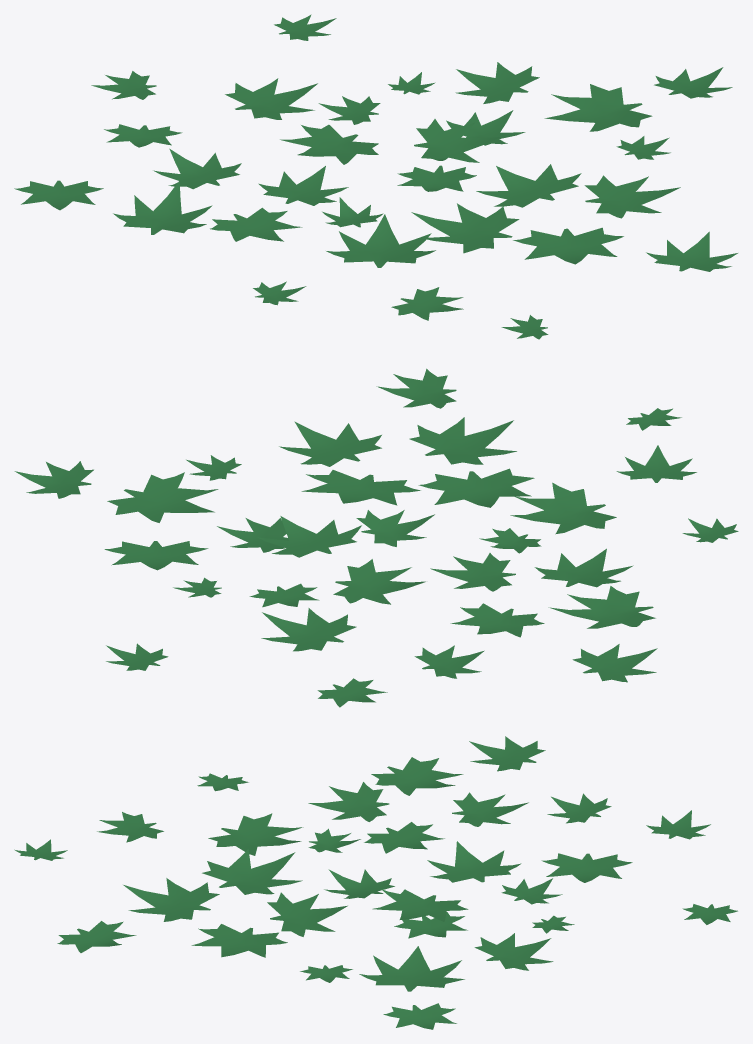
Rendered from leaves_ground_alangium_A.fbx.
3 views of the same model, one above another, from view 1: azimuth 30°, elevation 25°; view 2: azimuth 150°, elevation 25°; view 3: azimuth 270°, elevation 25° (orthographic). The views are drawn at different scales.
Parts seen in each view (by area): view 1: leaf_alangium_ground_A9, leaf_alangium_ground_A4, leaf_alangium_ground_A17, leaf_alangium_ground_A2, leaf_alangium_ground_A26, leaf_alangium_ground_A22, leaf_alangium_ground_A1, leaf_alangium_ground_A5, leaf_alangium_ground_A18, leaf_alangium_ground_A23, leaf_alangium_ground_A24, leaf_alangium_ground_A (+16 smaller); view 2: leaf_alangium_ground_A9, leaf_alangium_ground_A2, leaf_alangium_ground_A17, leaf_alangium_ground_A4, leaf_alangium_ground_A1, leaf_alangium_ground_A26, leaf_alangium_ground_A22, leaf_alangium_ground_A18, leaf_alangium_ground_A23, leaf_alangium_ground_A5, leaf_alangium_ground_A24, leaf_alangium_ground_A (+16 smaller); view 3: leaf_alangium_ground_A4, leaf_alangium_ground_A9, leaf_alangium_ground_A2, leaf_alangium_ground_A17, leaf_alangium_ground_A22, leaf_alangium_ground_A26, leaf_alangium_ground_A1, leaf_alangium_ground_A23, leaf_alangium_ground_A, leaf_alangium_ground_A18, leaf_alangium_ground_A5, leaf_alangium_ground_A24 (+16 smaller).
Part boxes in pixels (x1,y1,x2,y2): leaf_alangium_ground_A9: (544, 84, 652, 131); leaf_alangium_ground_A4: (411, 203, 519, 253); leaf_alangium_ground_A17: (326, 214, 435, 267); leaf_alangium_ground_A2: (513, 227, 623, 264); leaf_alangium_ground_A26: (113, 181, 212, 234); leaf_alangium_ground_A22: (476, 164, 581, 207); leaf_alangium_ground_A1: (584, 175, 680, 218); leaf_alangium_ground_A5: (414, 119, 500, 162); leaf_alangium_ground_A18: (225, 78, 317, 119); leaf_alangium_ground_A23: (280, 124, 378, 164); leaf_alangium_ground_A24: (455, 62, 539, 103); leaf_alangium_ground_A: (210, 207, 302, 241); leaf_alangium_ground_A9: (107, 472, 218, 522); leaf_alangium_ground_A2: (409, 417, 516, 464); leaf_alangium_ground_A17: (510, 482, 616, 534); leaf_alangium_ground_A4: (418, 468, 534, 507); leaf_alangium_ground_A1: (279, 421, 381, 466); leaf_alangium_ground_A26: (548, 586, 655, 628); leaf_alangium_ground_A22: (301, 470, 420, 505); leaf_alangium_ground_A18: (261, 608, 356, 651); leaf_alangium_ground_A23: (333, 559, 425, 604); leaf_alangium_ground_A5: (257, 516, 361, 557); leaf_alangium_ground_A24: (104, 541, 208, 570); leaf_alangium_ground_A: (534, 548, 633, 587); leaf_alangium_ground_A4: (202, 849, 302, 894); leaf_alangium_ground_A9: (359, 946, 464, 991); leaf_alangium_ground_A2: (123, 878, 219, 921); leaf_alangium_ground_A17: (208, 813, 303, 855); leaf_alangium_ground_A22: (267, 892, 347, 936); leaf_alangium_ground_A26: (371, 757, 463, 795); leaf_alangium_ground_A1: (191, 924, 287, 957); leaf_alangium_ground_A23: (427, 841, 521, 882); leaf_alangium_ground_A: (308, 782, 389, 821); leaf_alangium_ground_A18: (541, 853, 632, 882); leaf_alangium_ground_A5: (372, 889, 468, 921); leaf_alangium_ground_A24: (474, 933, 553, 970).
Bounding box in the file's own units: 212 × 4.44 × 218.
